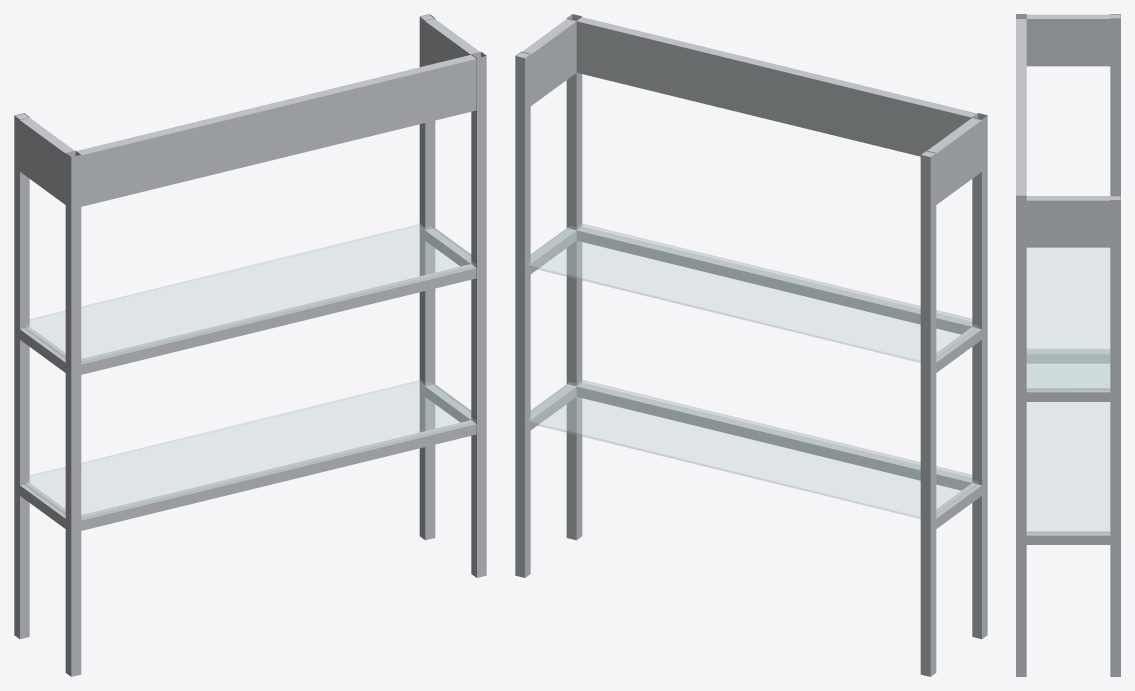
The model's file is glass_shelf_edited.gltf.
The picture shows the model from 3 angles, left to right: view 1: azimuth 30°, elevation 25°; view 2: azimuth 150°, elevation 25°; view 3: azimuth 270°, elevation 25°; orthographic projection. The views are drawn at different scales.
Parts seen in each view (by area): view 1: Glass shelf.lwo; view 2: Glass shelf.lwo; view 3: Glass shelf.lwo.
Boxes of the visible parts, x1,y1,x2,y2 form: Glass shelf.lwo: [14, 14, 486, 676]; Glass shelf.lwo: [515, 14, 987, 676]; Glass shelf.lwo: [1016, 14, 1120, 676].
Size of the model in its own units: 0.8404 by 1 by 0.2003.
Materials: 7 (7 with a texture image).
